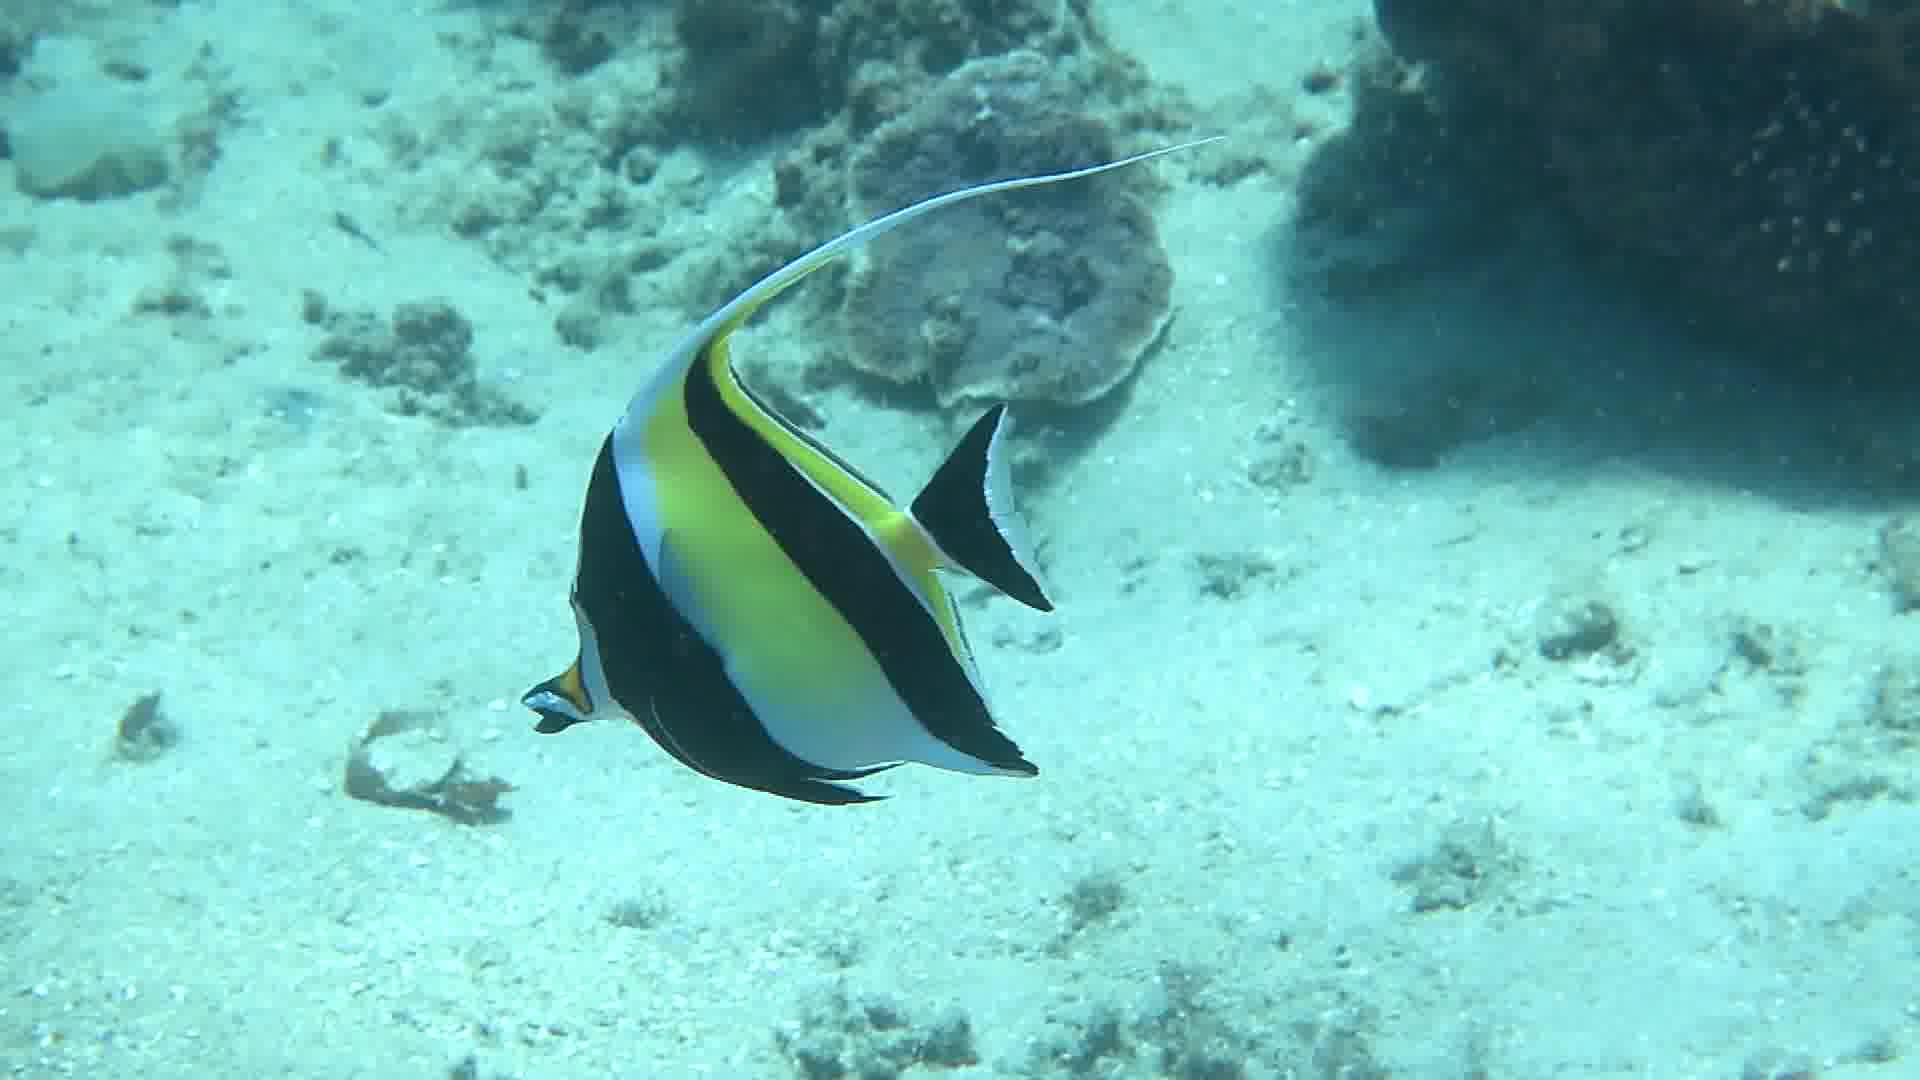Zanclus cornutus: (525, 294, 1083, 847)
